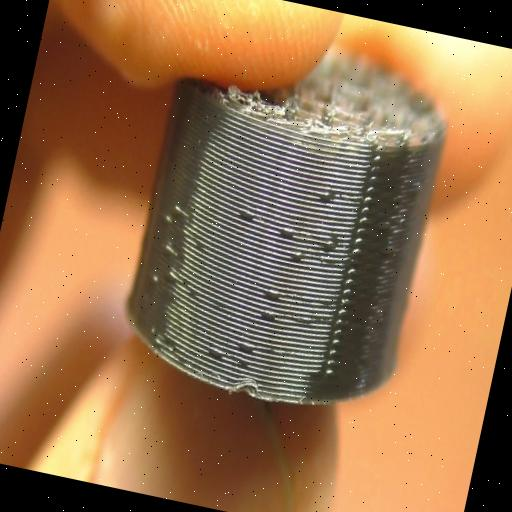blobs: (222, 162, 358, 296), (129, 184, 217, 318), (190, 306, 280, 388)
